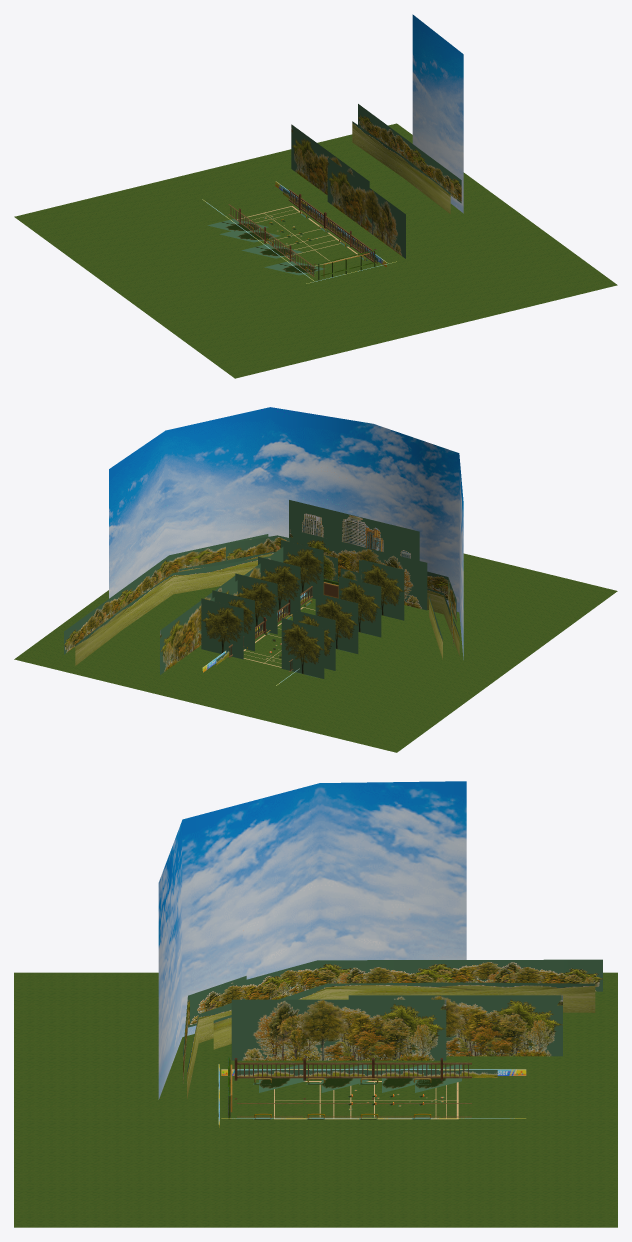
Rendered from EnvironmentD.glb.
3 renders of one model, top to bottom at view 1: azimuth 30°, elevation 25°; view 2: azimuth 150°, elevation 25°; view 3: azimuth 270°, elevation 25°, orthographic. The views are drawn at different scales.
Visible parts, largest first — view 1: EnvironmentD_Original; view 2: EnvironmentD_Original; view 3: EnvironmentD_Original.
Boxes of the visible parts, x1,y1,x2,y2 form: EnvironmentD_Original: (14,14,617,378); EnvironmentD_Original: (14,407,617,752); EnvironmentD_Original: (14,781,617,1227).
Size of the model in its own units: 115 by 46.76 by 115.
2 materials, 2 textured.
